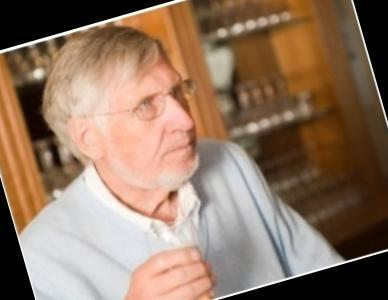Sober: (110, 60, 199, 179)
